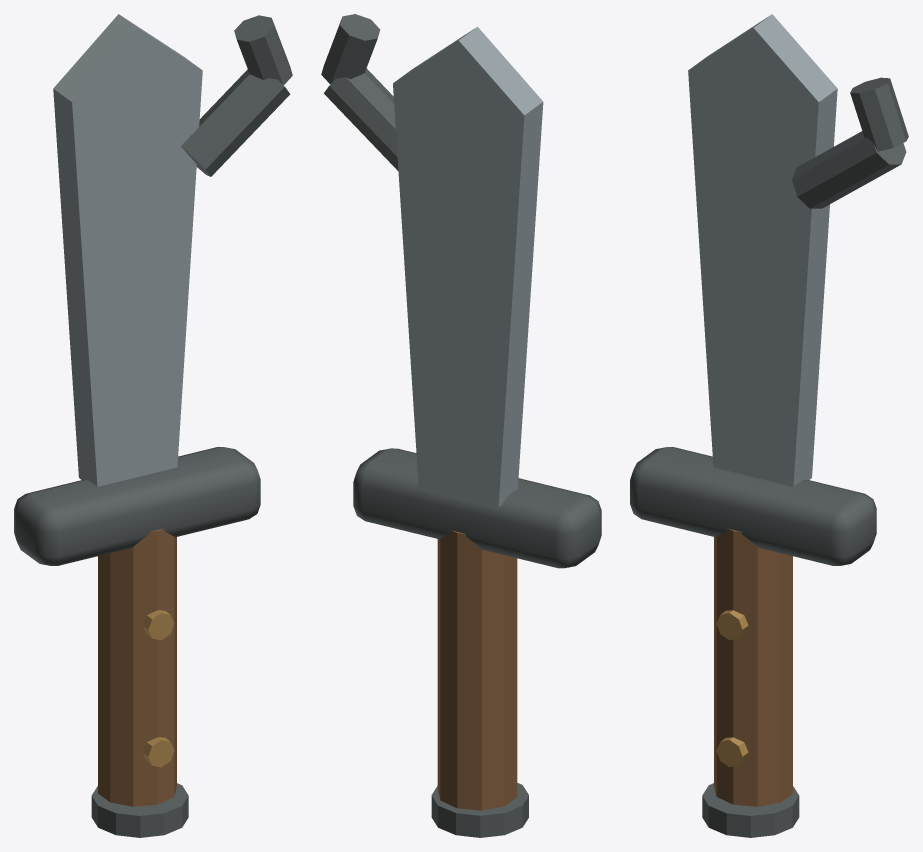
Rendered from briarhook_field_knife.glb.
3 renders of one model, left to right at view 1: azimuth 30°, elevation 25°; view 2: azimuth 150°, elevation 25°; view 3: azimuth 330°, elevation 25°, orthographic.
Visible parts, largest first — view 1: Briarhook blade, Handle core, Knuckle guard, Blunt brush hook, Lanyard eye, Hook return, Handle pin, Handle pin.001; view 2: Briarhook blade, Handle core, Knuckle guard, Blunt brush hook, Lanyard eye, Hook return; view 3: Briarhook blade, Handle core, Knuckle guard, Blunt brush hook, Lanyard eye, Hook return, Handle pin, Handle pin.001.
Part boxes in pixels (bbox=[...]): Briarhook blade: bbox=[53, 14, 202, 486]; Handle core: bbox=[98, 528, 176, 806]; Knuckle guard: bbox=[14, 447, 260, 565]; Blunt brush hook: bbox=[181, 69, 290, 176]; Lanyard eye: bbox=[91, 783, 188, 837]; Hook return: bbox=[234, 15, 292, 85]; Handle pin: bbox=[142, 737, 174, 767]; Handle pin.001: bbox=[142, 610, 174, 640]; Briarhook blade: bbox=[393, 26, 543, 507]; Handle core: bbox=[437, 530, 517, 810]; Knuckle guard: bbox=[353, 448, 601, 568]; Blunt brush hook: bbox=[324, 68, 398, 170]; Lanyard eye: bbox=[431, 783, 528, 837]; Hook return: bbox=[321, 14, 380, 84]; Briarhook blade: bbox=[688, 14, 837, 486]; Handle core: bbox=[714, 528, 792, 806]; Knuckle guard: bbox=[630, 447, 876, 565]; Blunt brush hook: bbox=[792, 131, 906, 208]; Lanyard eye: bbox=[702, 783, 799, 837]; Hook return: bbox=[850, 77, 908, 151]; Handle pin: bbox=[716, 737, 748, 767]; Handle pin.001: bbox=[716, 610, 748, 640].
Size of the model in its own units: 0.5676 by 1.61 by 0.18.
